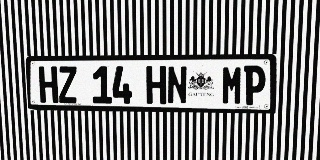1: (92, 66, 112, 104)
4: (112, 66, 132, 104)
H: (38, 66, 59, 103), (146, 66, 166, 104)
M: (221, 66, 243, 105)
N: (167, 66, 187, 104)
P: (243, 65, 266, 105)
Z: (58, 66, 78, 103)
